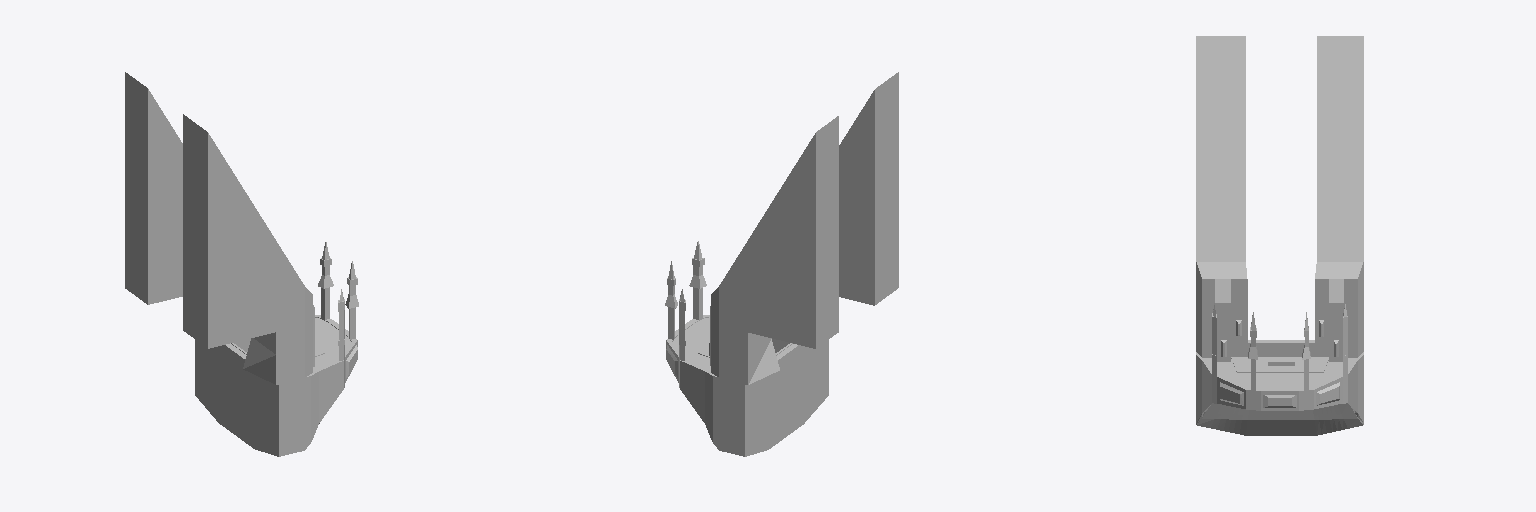
The model's file is gateplatform.obj.
3 renders of one model, left to right at view 1: azimuth 30°, elevation 25°; view 2: azimuth 150°, elevation 25°; view 3: azimuth 270°, elevation 25°, orthographic.
Parts seen in each view (by area): view 1: Cube_Cube.002; view 2: Cube_Cube.002; view 3: Cube_Cube.002.
Boxes of the visible parts, x1=… form: Cube_Cube.002: x1=125, y1=72, x2=358, y2=456; Cube_Cube.002: x1=665, y1=72, x2=898, y2=456; Cube_Cube.002: x1=1196, y1=36, x2=1363, y2=435.
Bounding box in the file's own units: 9.6 × 18.03 × 7.75.